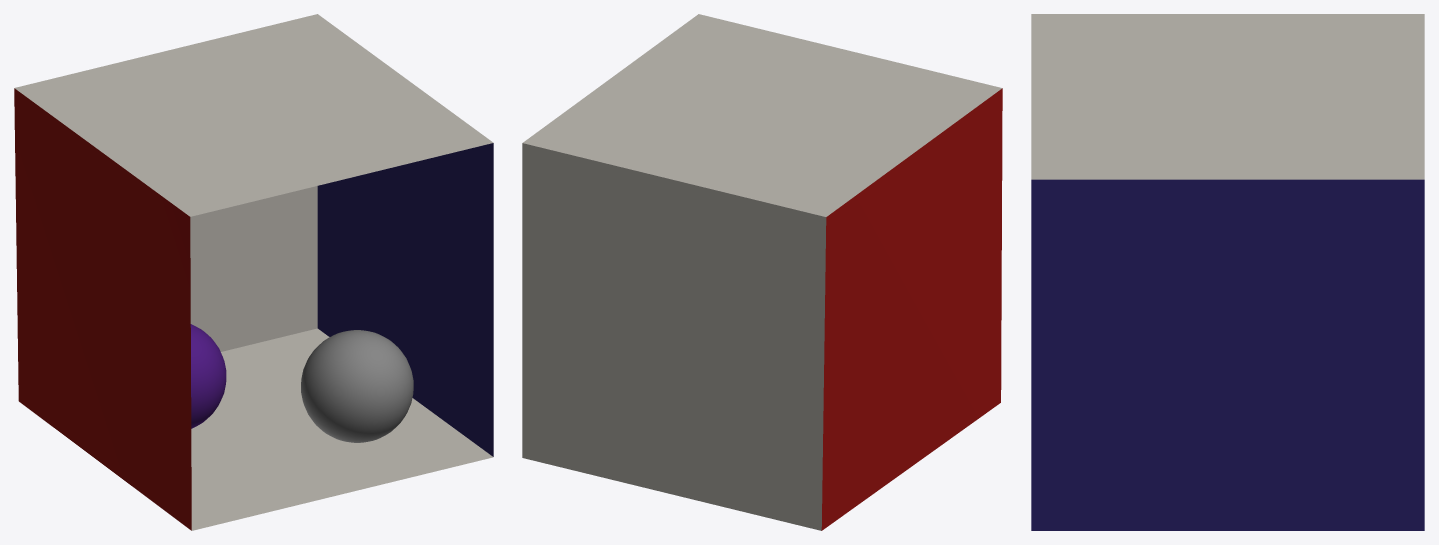
File: CornellBox-Sphere.obj
3 views of the same model, side by side, from view 1: azimuth 30°, elevation 25°; view 2: azimuth 150°, elevation 25°; view 3: azimuth 270°, elevation 25° (orthographic). The views are drawn at different scales.
Visible parts, largest first — view 1: CornellBox-Sphere; view 2: CornellBox-Sphere; view 3: CornellBox-Sphere.
Part boxes in pixels (left/top/right/bottom): CornellBox-Sphere: left=14, top=14, right=493, bottom=530; CornellBox-Sphere: left=522, top=14, right=1002, bottom=530; CornellBox-Sphere: left=1031, top=14, right=1424, bottom=530.
Size of the model in its own units: 5.05 by 5 by 5.07.
